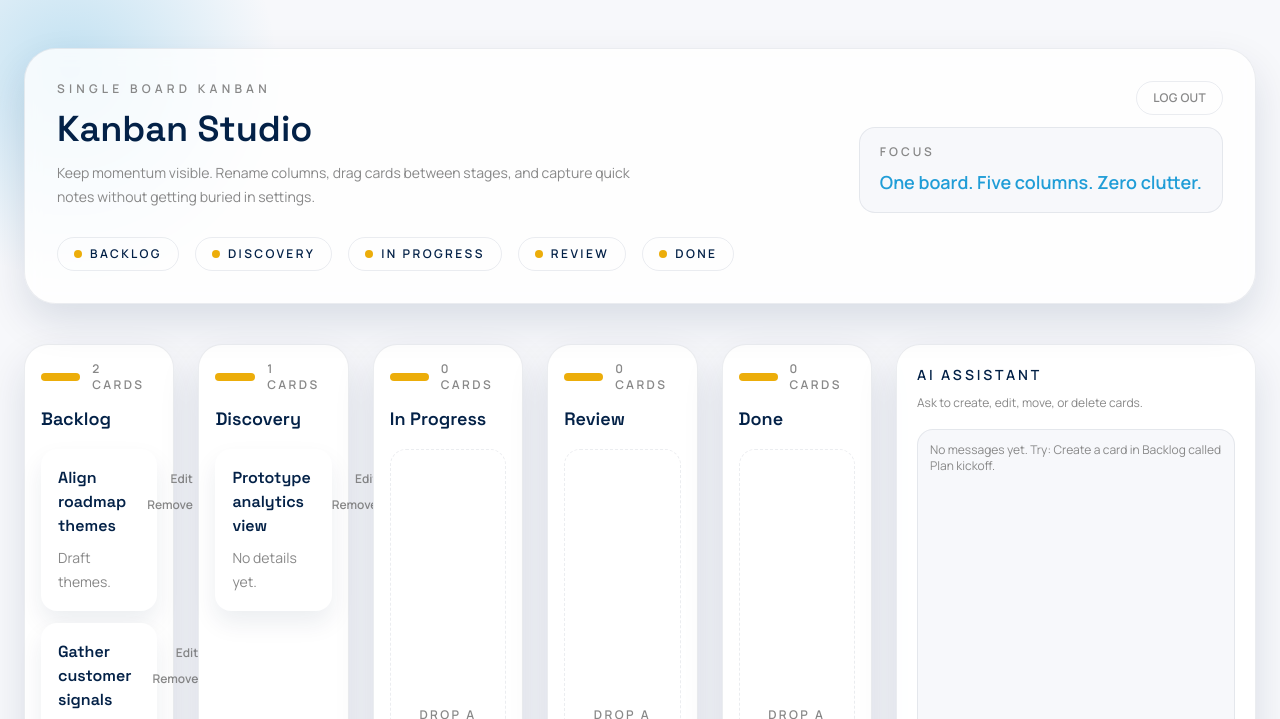
Test: cards › edits a card through the API
This screenshot has width=1280, height=719.
Click the button with aria-label "edit align roadmap themes": {"x": 182, "y": 479} left=161, top=466, right=202, bottom=492
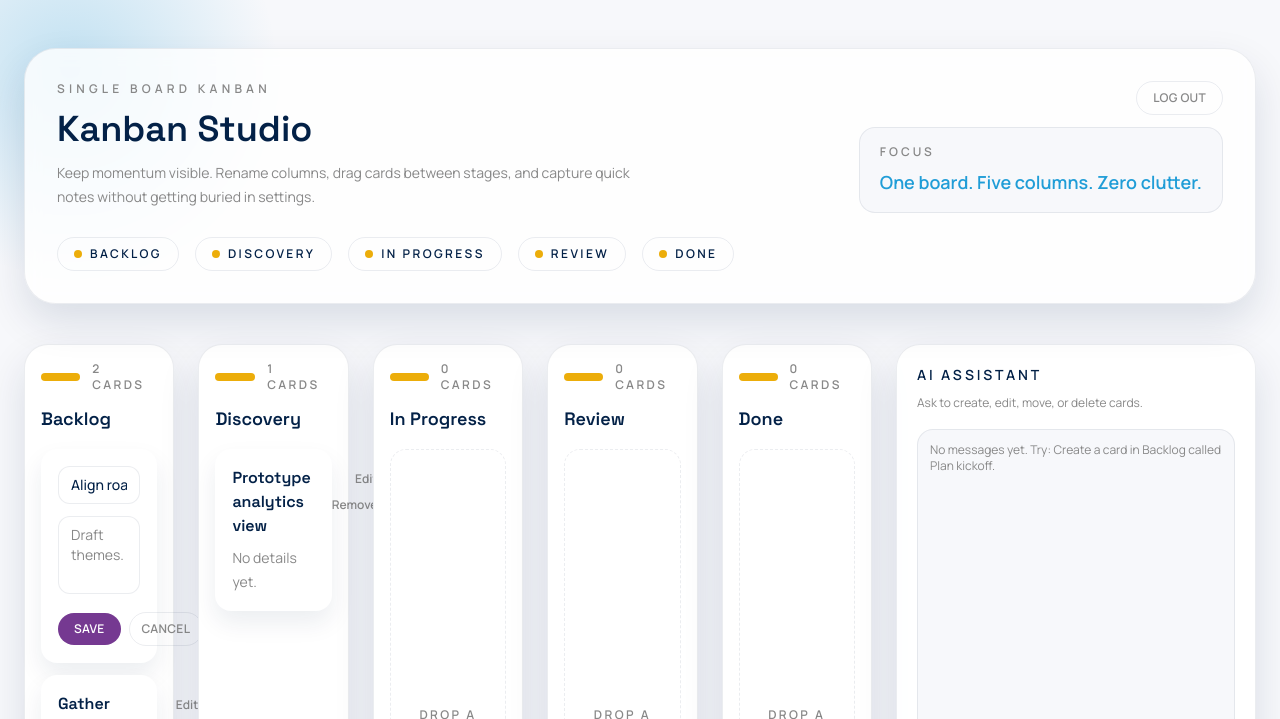
Replace the text in the field named "Card title" with "Renamed card": {"x": 99, "y": 485} left=58, top=466, right=140, bottom=504
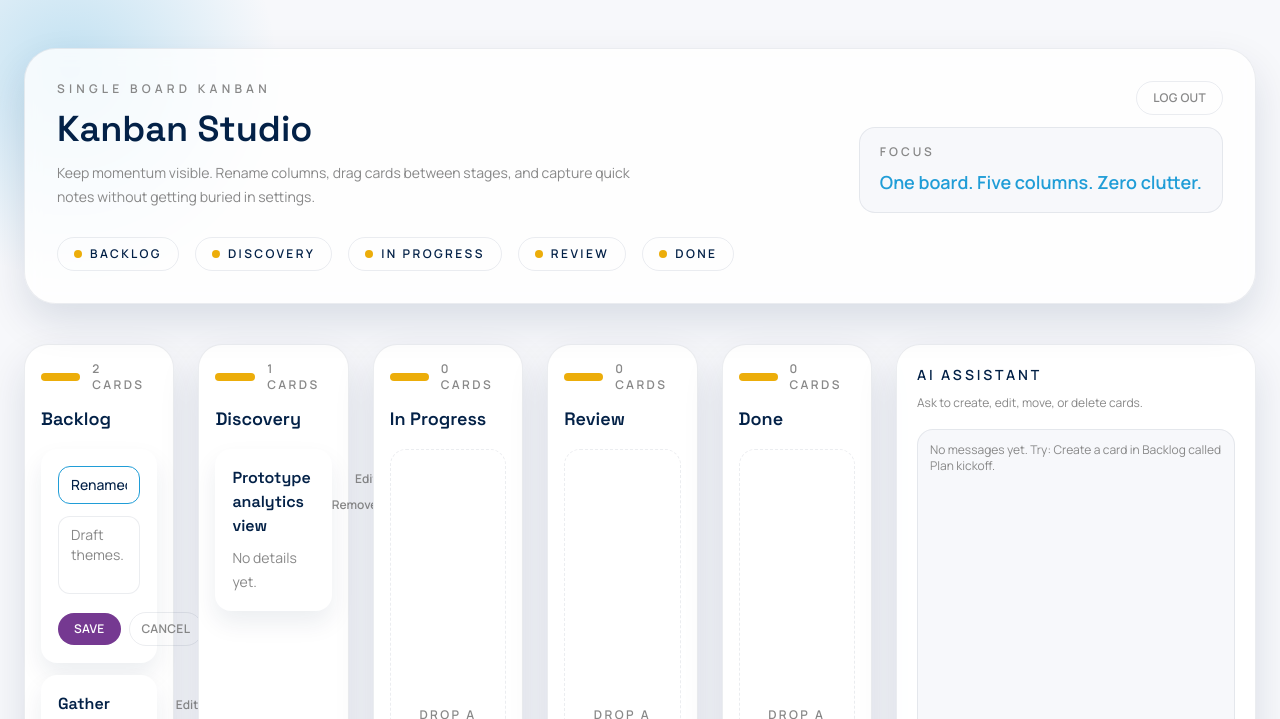
Replace the text in the text box named "Card details" with "Updated notes": {"x": 99, "y": 555} left=58, top=516, right=140, bottom=594
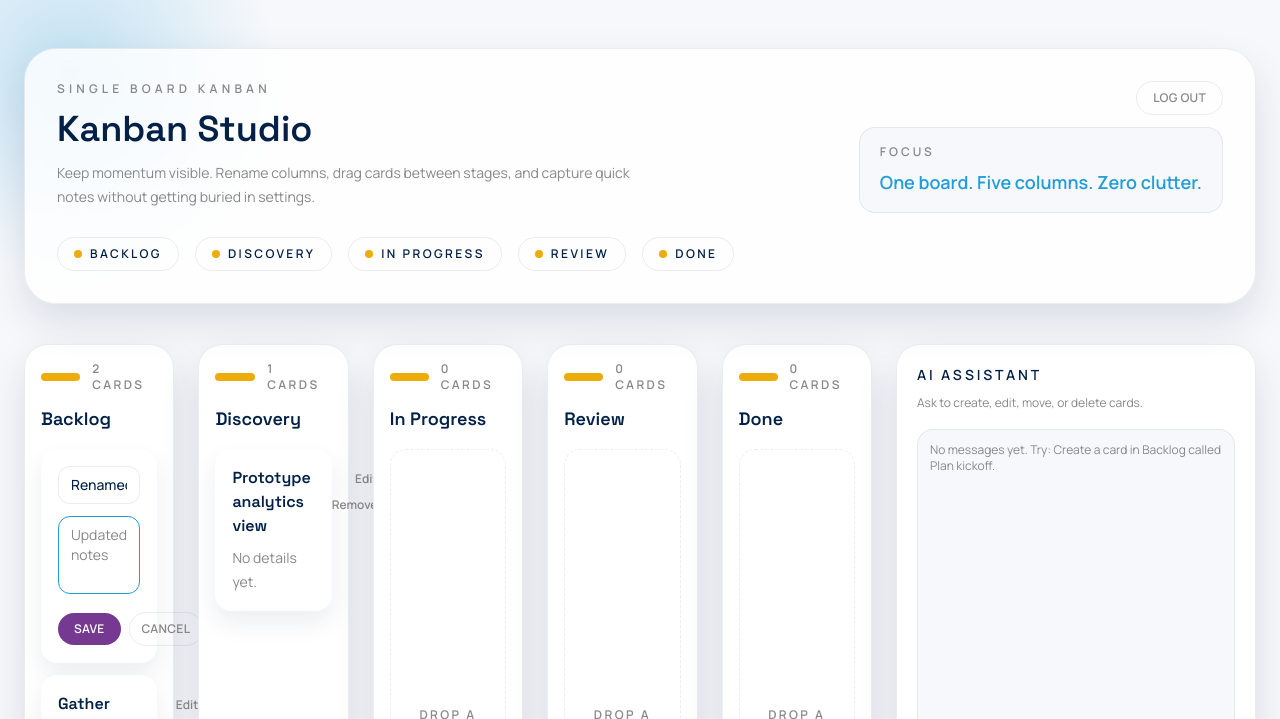
Click the button "Save": {"x": 89, "y": 629} left=58, top=613, right=120, bottom=645
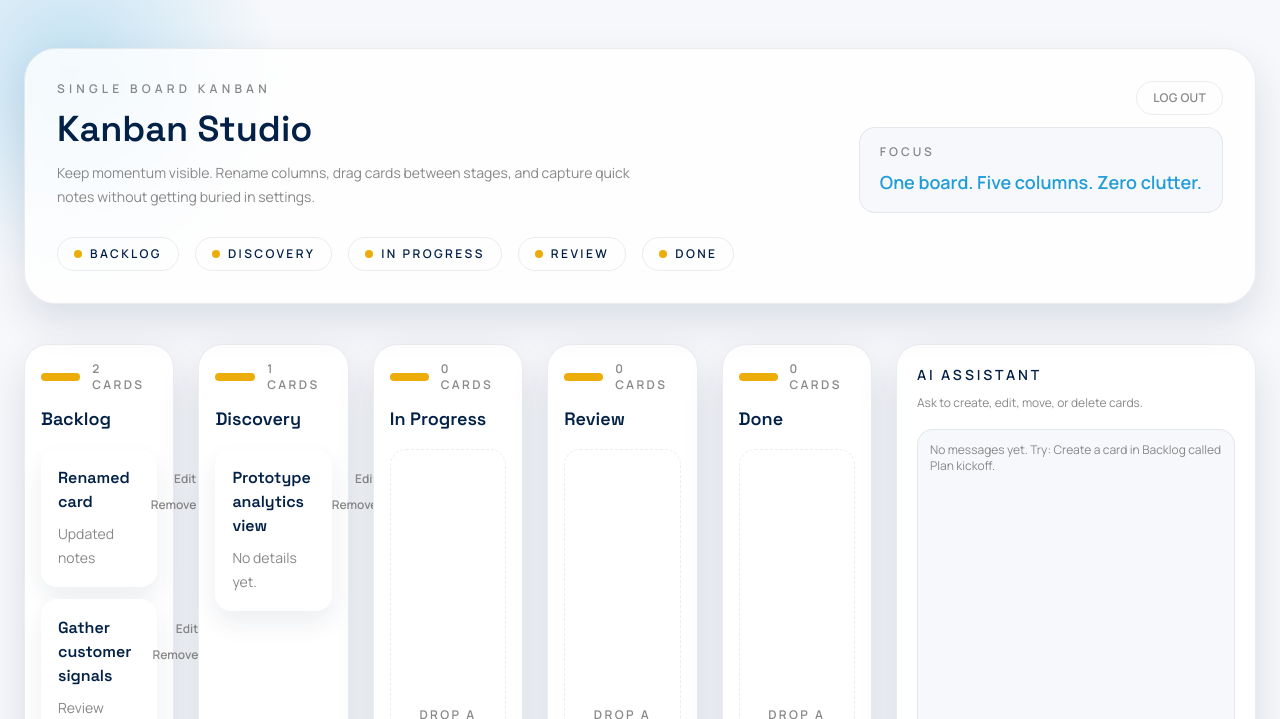
Result: the heading "Renamed card" is shown at left=58, top=466, right=130, bottom=514
Result: the text "Updated notes" is shown at left=58, top=524, right=114, bottom=567
